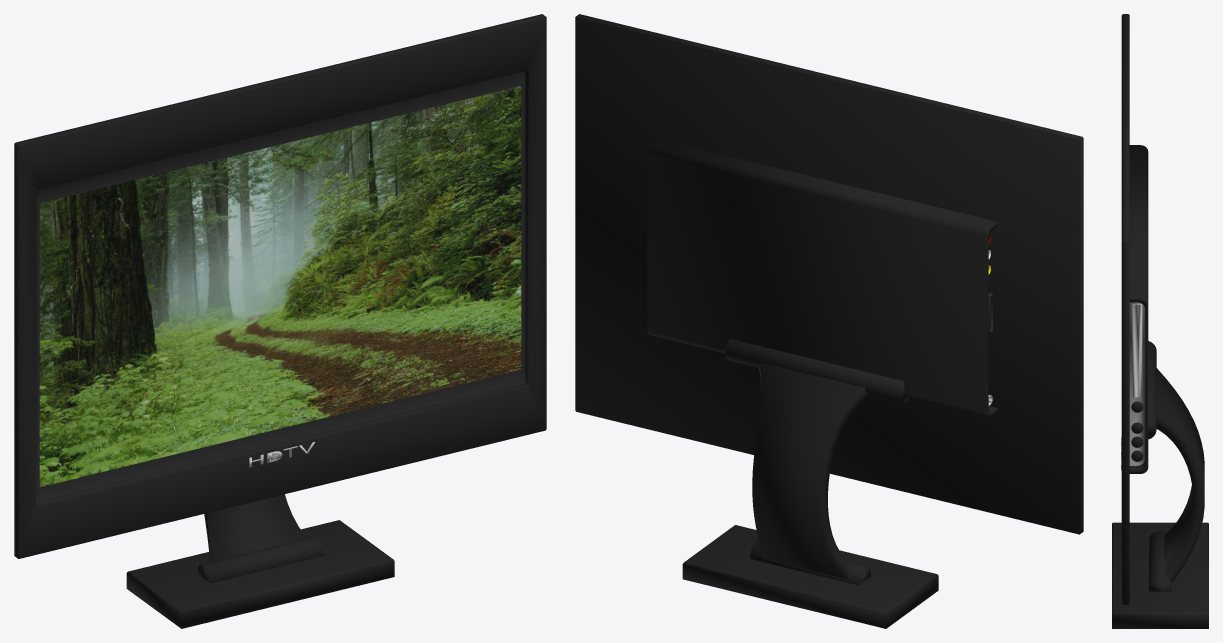
Rendered from HDTV.obj.
3 views of the same model, side by side, from view 1: azimuth 30°, elevation 25°; view 2: azimuth 150°, elevation 25°; view 3: azimuth 270°, elevation 25° (orthographic). The views are drawn at different scales.
Visible parts, largest first — view 1: HDTV OBJ.obj; view 2: HDTV OBJ.obj; view 3: HDTV OBJ.obj.
Boxes of the visible parts, x1=… form: HDTV OBJ.obj: x1=14, y1=14, x2=546, y2=628; HDTV OBJ.obj: x1=575, y1=14, x2=1083, y2=628; HDTV OBJ.obj: x1=1112, y1=14, x2=1208, y2=628.
Size of the model in its own units: 6.95 by 6.5 by 1.25.
